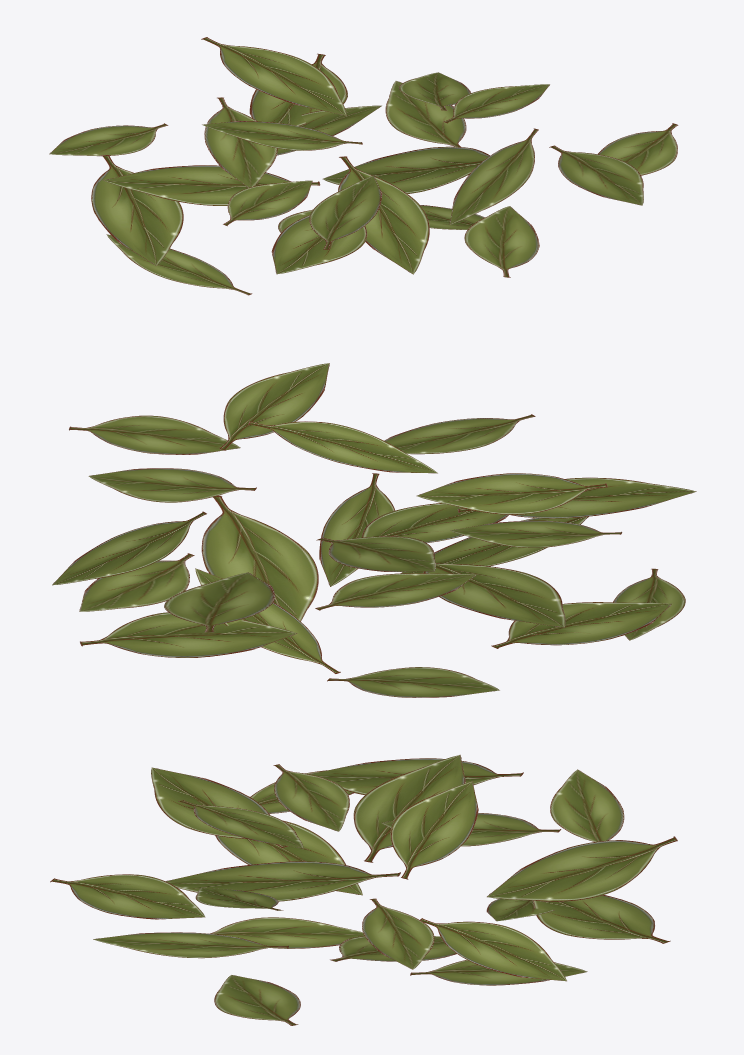
File: SM_LeafCluster.fbx
3 views of the same model, one above another, from view 1: azimuth 30°, elevation 25°; view 2: azimuth 150°, elevation 25°; view 3: azimuth 270°, elevation 25° (orthographic). The views are drawn at different scales.
Visible parts, largest first — view 1: Foglia; view 2: Foglia; view 3: Foglia.
Part boxes in pixels (x1=…): Foglia: x1=49, y1=37, x2=678, y2=295; Foglia: x1=52, y1=363, x2=696, y2=697; Foglia: x1=50, y1=754, x2=677, y2=1025.
Bounding box in the file's own units: 562 × 88.36 × 541.
